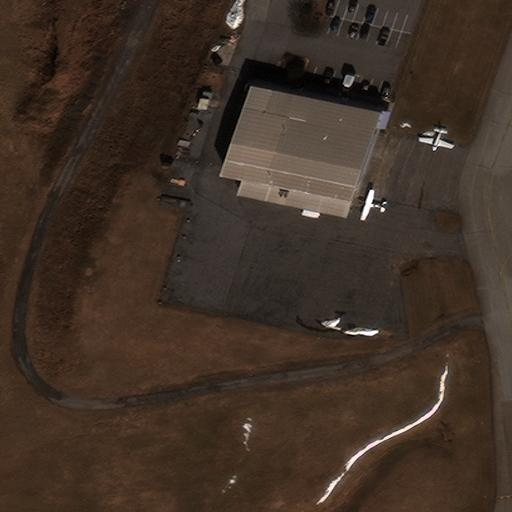Small Civil Transport: (354, 188, 387, 221), (418, 125, 452, 151)
